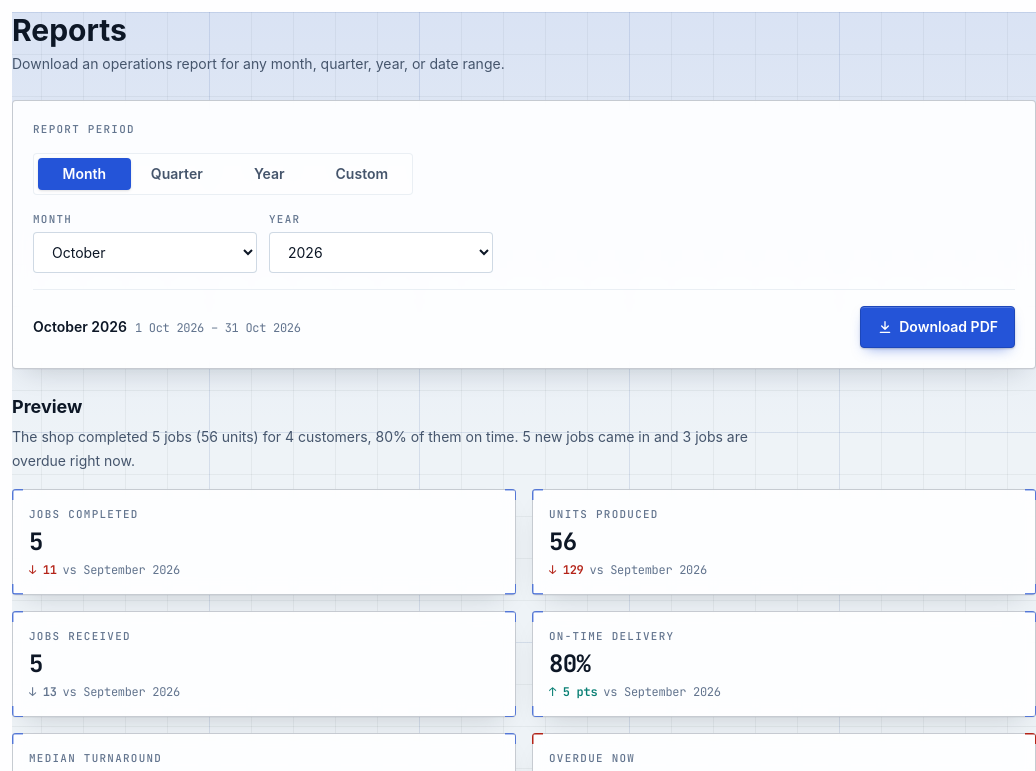
Scenario: Reports page › previews the chosen month
The image size is (1036, 771).
Select "September" in the dropdown labelled "Month" at (145, 252), box [33,232,257,273]
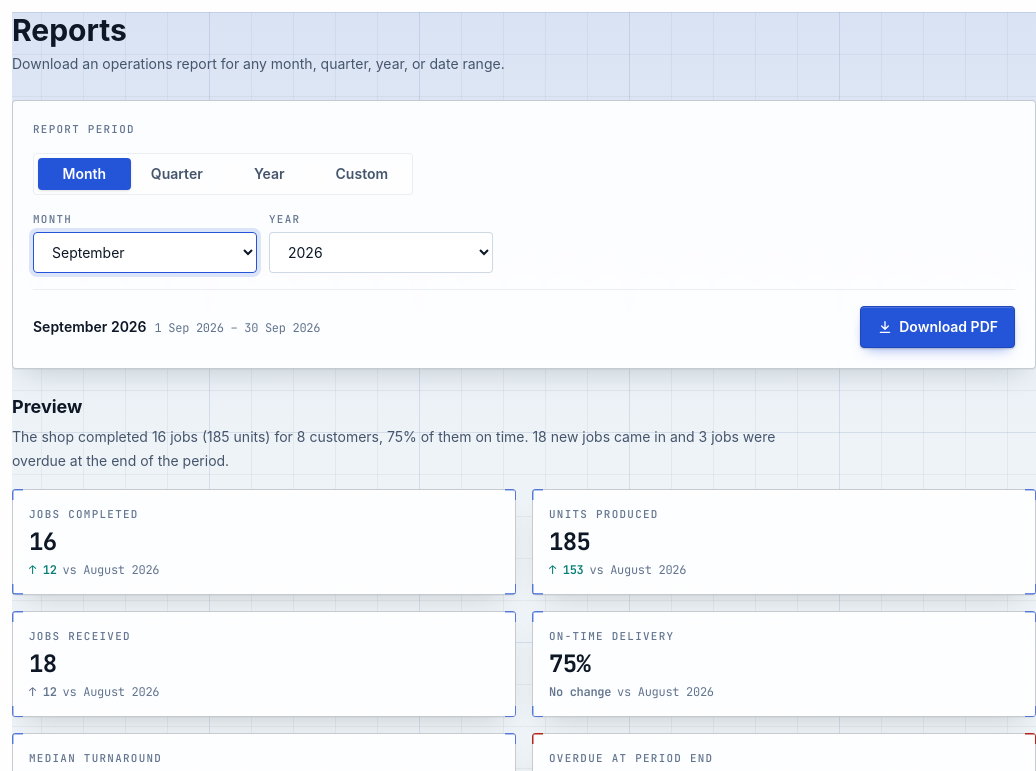
Result: the text "September 2026" is shown at [33,318,146,335]
Result: the text "The shop completed 16 jobs (185 units) for 8 customers" is shown at [12,428,775,469]
Result: the text "Overdue at period end" is shown at [549,751,714,765]
